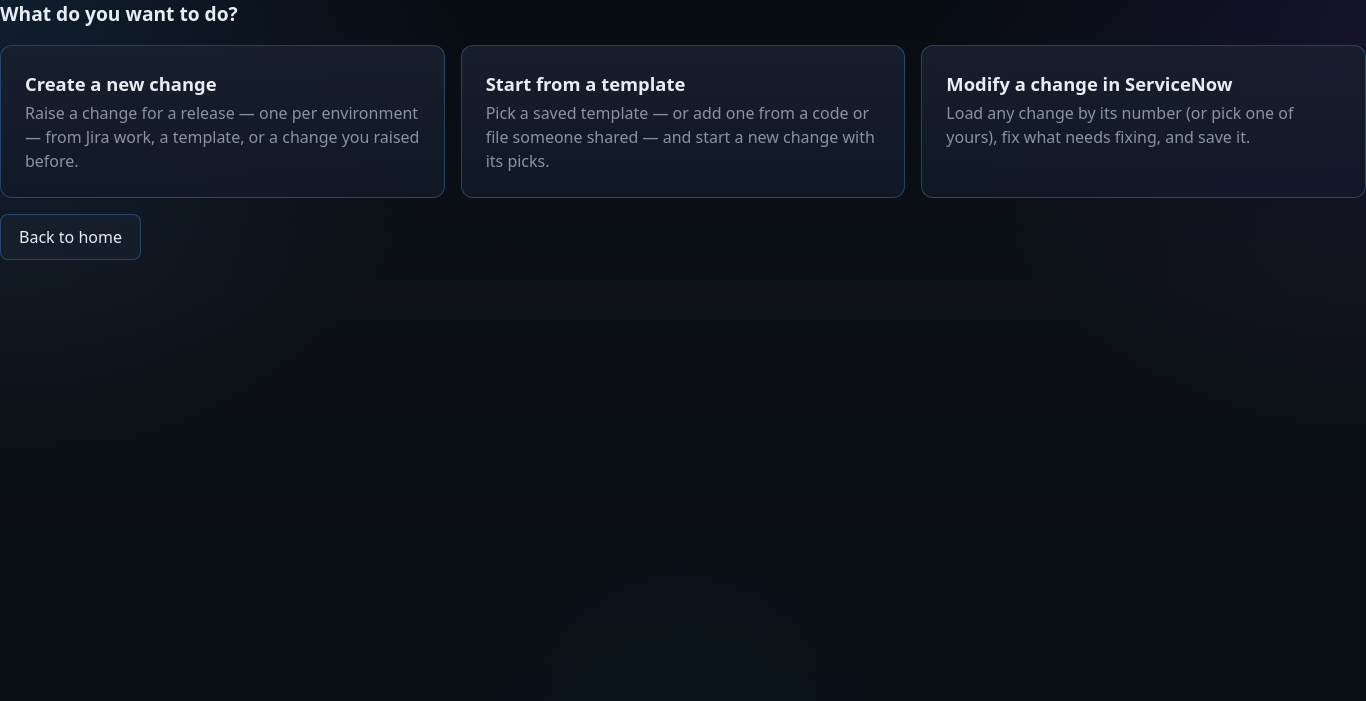
ChangeWizard — templates › copies the picks from a change raised before on step 1, leaving its writing out
Click the button "Create a new change": [222, 122] box [0,45,445,198]
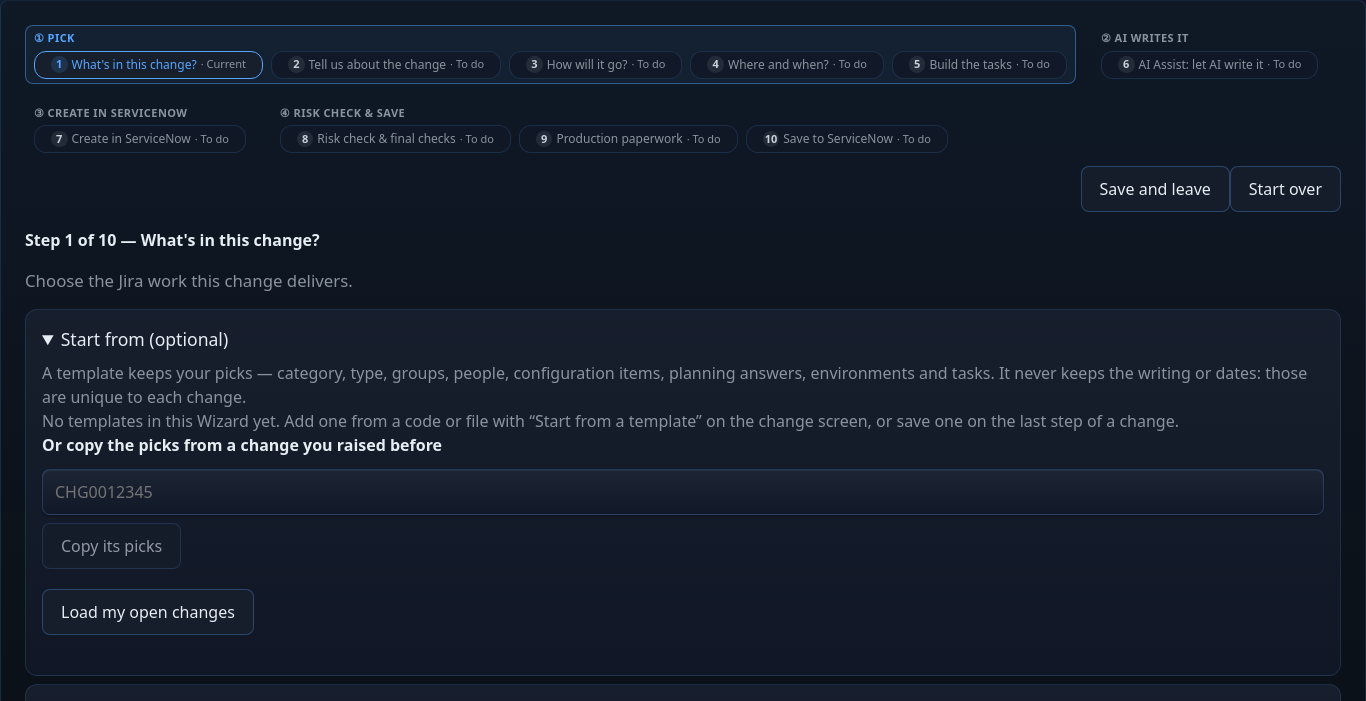
In the field labelled "Or copy the picks from a change you raised before": [683, 492] box [42,469,1324,515], type "chg0001234"
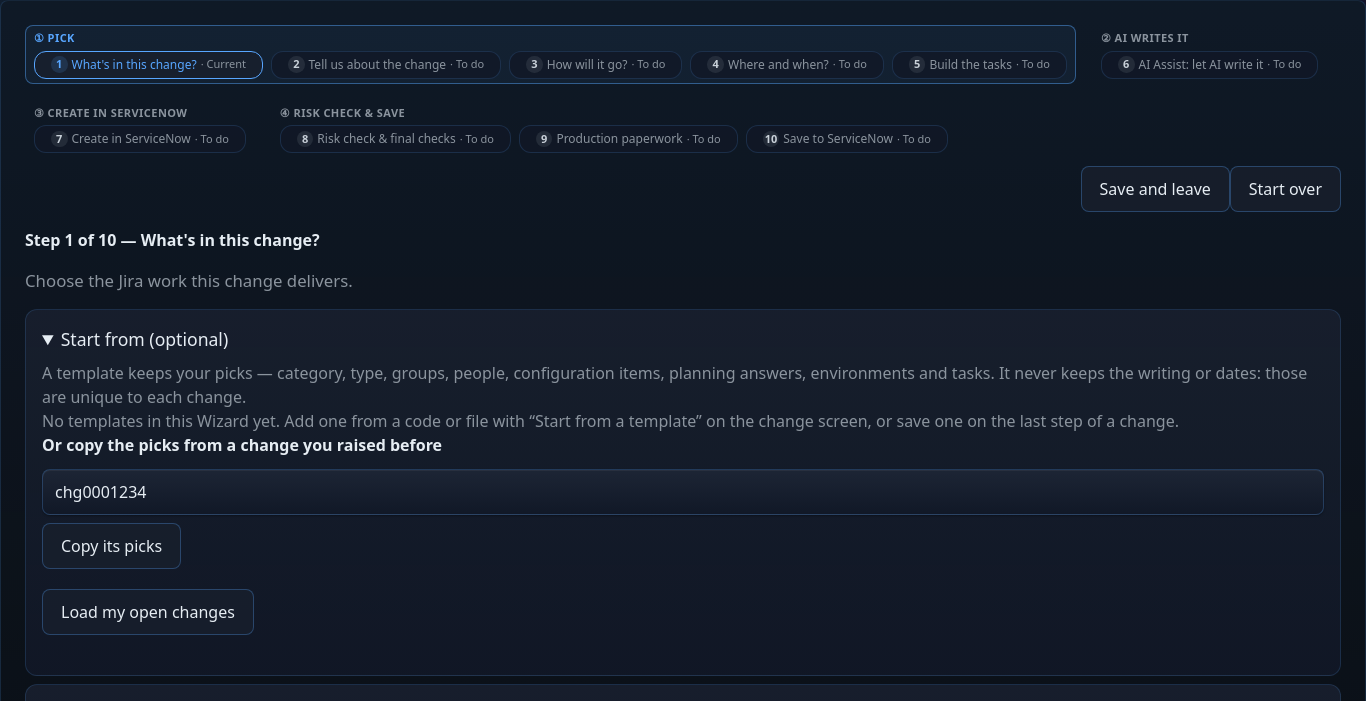
Click the button "Copy its picks": [112, 546] box [42,523,181,569]
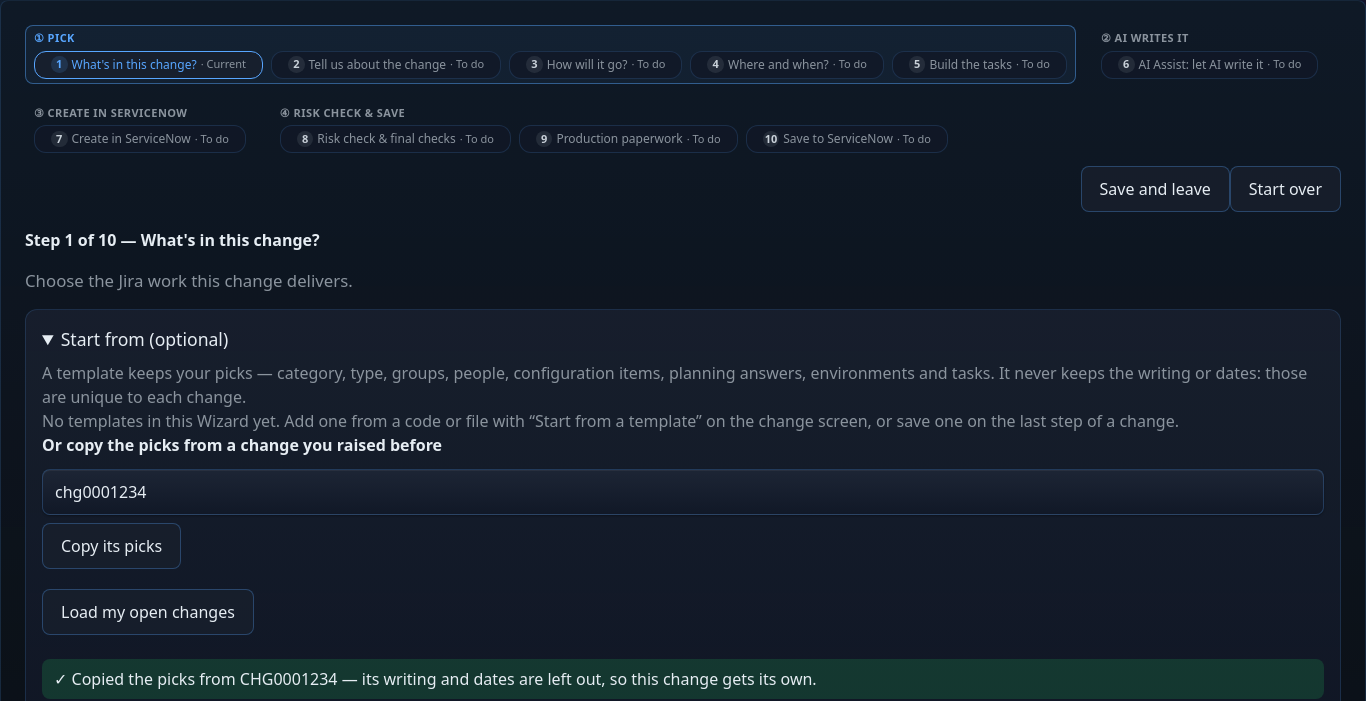
expect the text "✓ Copied the picks from CHG0001234 — its writing and dates are left out" is shown: met, box [54,668,817,690]
